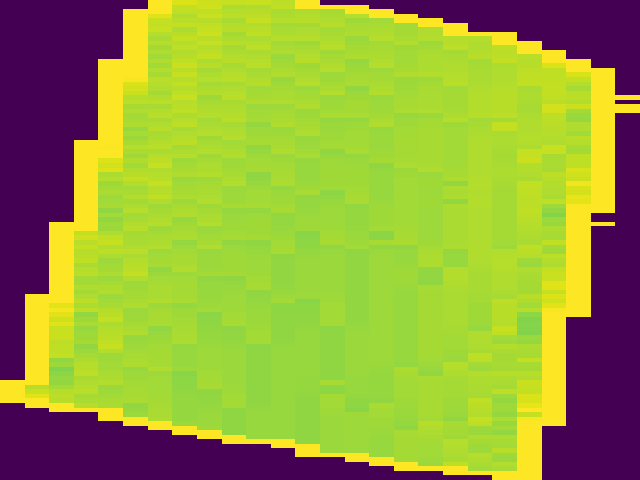cylinder: (1, 5, 640, 480)
